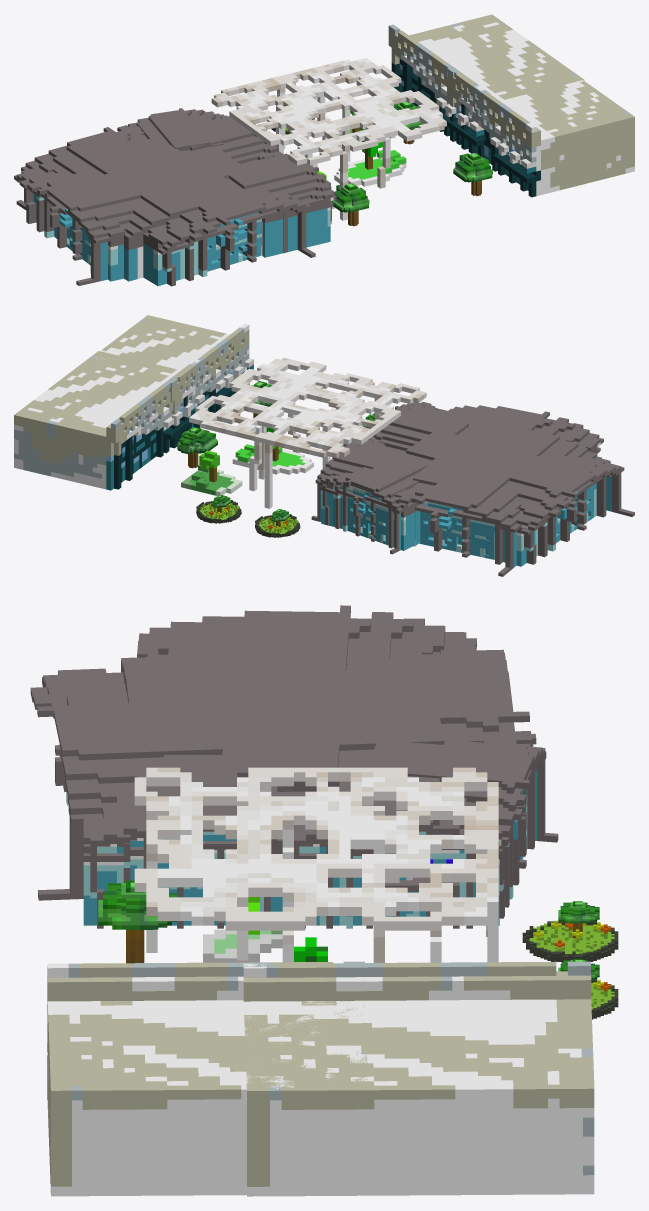
File: centraal.fbx
3 views of the same model, one above another, from view 1: azimuth 30°, elevation 25°; view 2: azimuth 150°, elevation 25°; view 3: azimuth 270°, elevation 25° (orthographic). The views are drawn at different scales.
Parts seen in each view (by area): view 1: Layer.030; view 2: Layer.030; view 3: Layer.030.
Part boxes in pixels (<box>): Layer.030: <box>14,14,634,286</box>; Layer.030: <box>14,315,634,576</box>; Layer.030: <box>30,605,618,1196</box>.
Size of the model in its own units: 13529 by 1824 by 6717.
16 materials, 16 textured.
